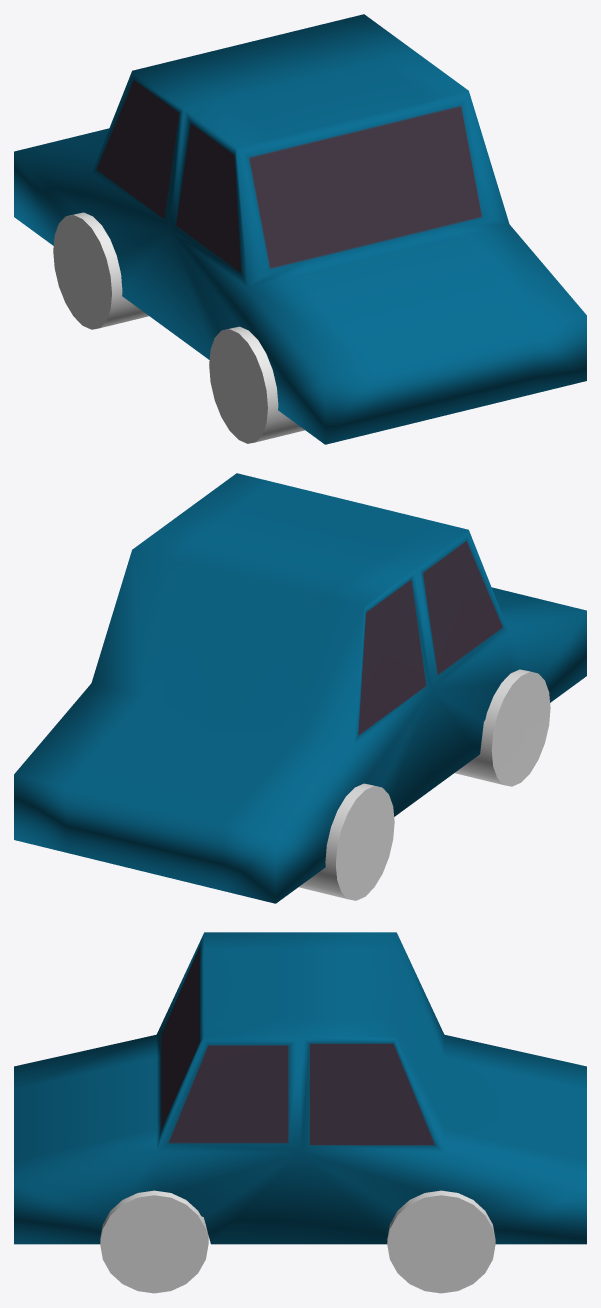
File: bodycar.fbx
3 renders of one model, top to bottom at view 1: azimuth 30°, elevation 25°; view 2: azimuth 150°, elevation 25°; view 3: azimuth 270°, elevation 25°, orthographic. The views are drawn at different scales.
Visible parts, largest first — view 1: pCube3, pCylinder7, pCylinder6; view 2: pCube3, pCylinder6, pCylinder7; view 3: pCube3, pCylinder4, pCylinder5.
Part boxes in pixels (box(x1,y1,x2,y2)): pCube3: box(14, 14, 586, 444); pCylinder7: box(53, 212, 148, 329); pCylinder6: box(209, 326, 304, 443); pCube3: box(14, 473, 586, 903); pCylinder6: box(455, 669, 550, 786); pCylinder7: box(299, 783, 394, 900); pCube3: box(14, 932, 586, 1244); pCylinder4: box(100, 1190, 208, 1293); pCylinder5: box(387, 1190, 495, 1293).
Bounding box in the file's own units: 6.32 × 5.7 × 12.05.
2 materials, 1 textured.
